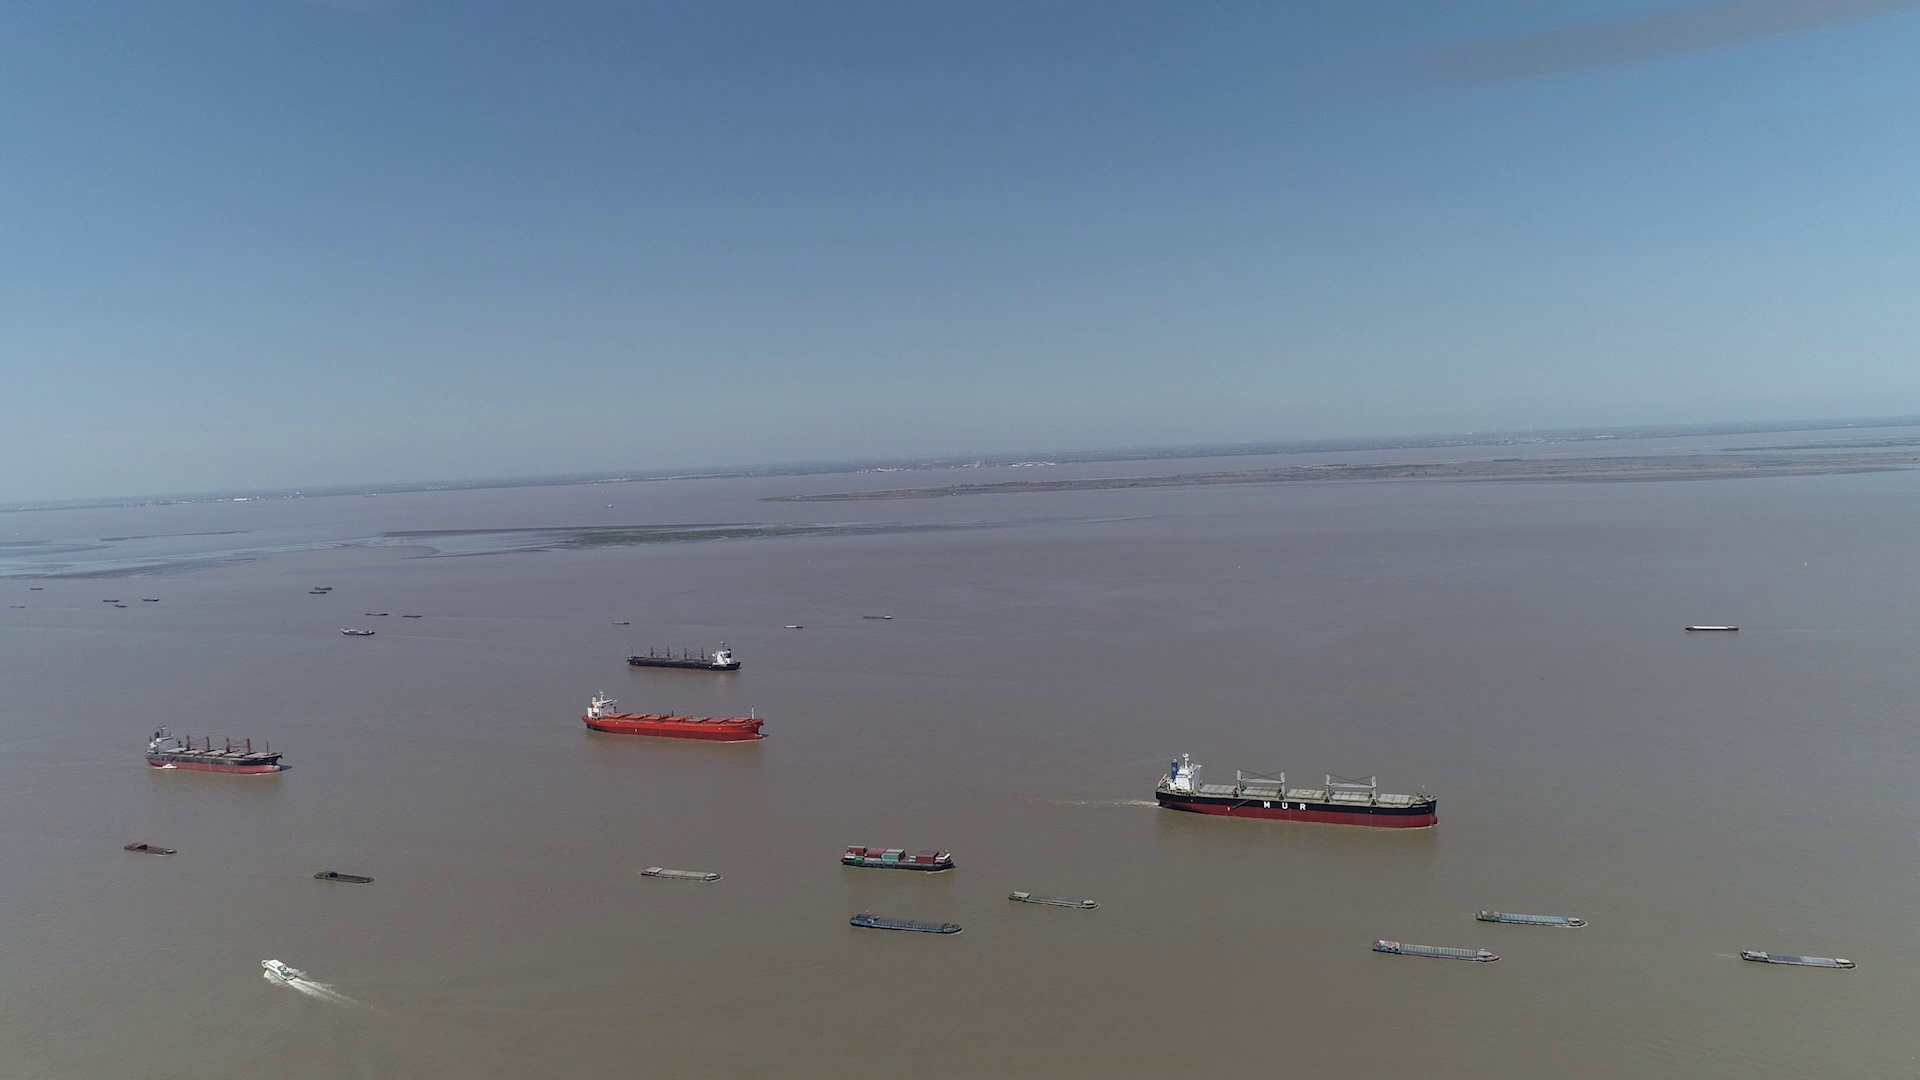ship: (1156, 752, 1439, 828), (582, 694, 762, 740), (144, 725, 282, 774), (839, 844, 955, 872), (626, 644, 741, 671), (1374, 939, 1503, 963), (1739, 948, 1858, 969), (849, 913, 963, 934), (1476, 909, 1584, 928), (1007, 889, 1098, 909), (640, 865, 720, 881), (256, 959, 295, 980), (313, 872, 377, 884), (123, 841, 174, 855), (1687, 622, 1738, 632), (342, 626, 377, 636)
